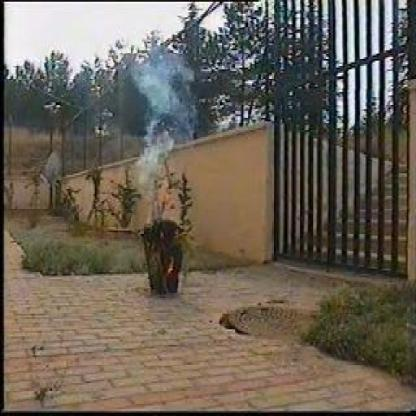-: (134, 41, 191, 183)
